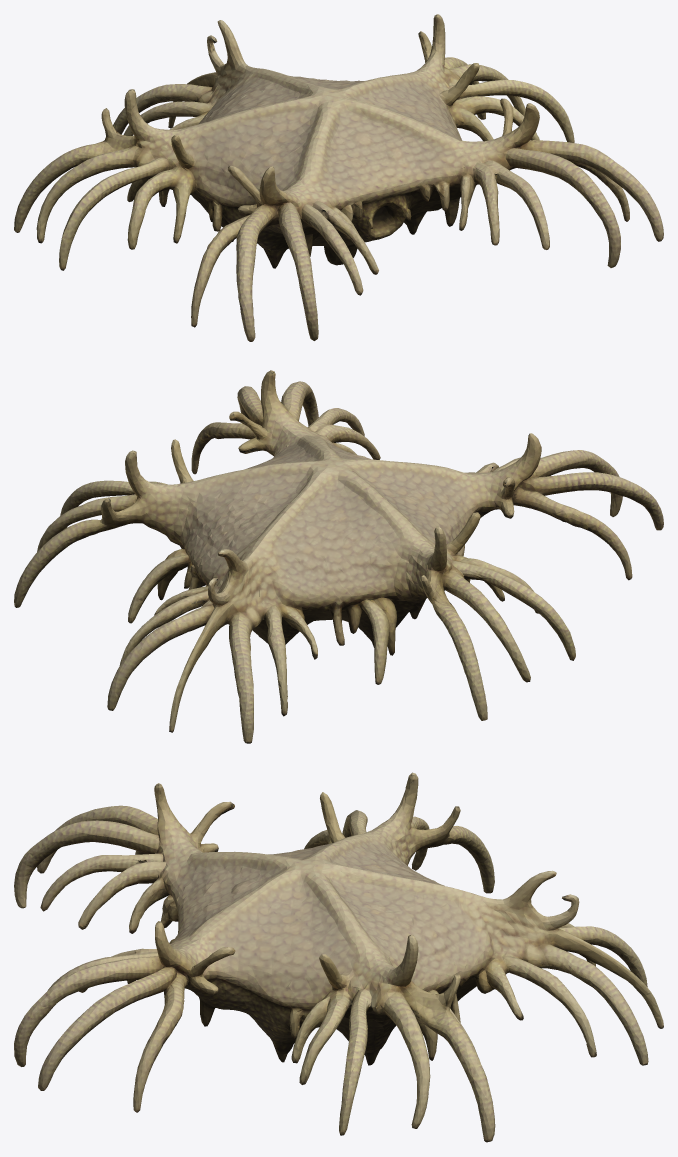
3 renders of one model, top to bottom at view 1: azimuth 30°, elevation 25°; view 2: azimuth 150°, elevation 25°; view 3: azimuth 270°, elevation 25°, orthographic. The views are drawn at different scales.
Visible parts, largest first — view 1: geometry_0; view 2: geometry_0; view 3: geometry_0.
Boxes of the visible parts, box(x1,y1,x2,y2) form: geometry_0: box(14, 14, 663, 341); geometry_0: box(14, 370, 663, 743); geometry_0: box(14, 772, 663, 1142).
Size of the model in its own units: 0.061 by 0.0196 by 0.061.
Materials: 1 (1 with a texture image).
